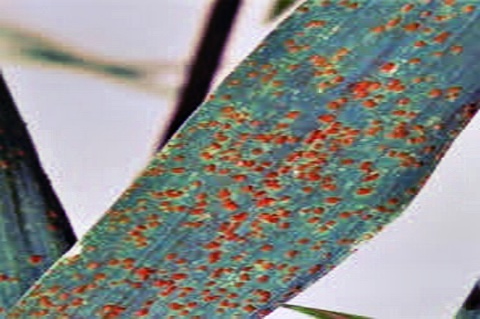Leaf Rust: (131, 42, 446, 302)
